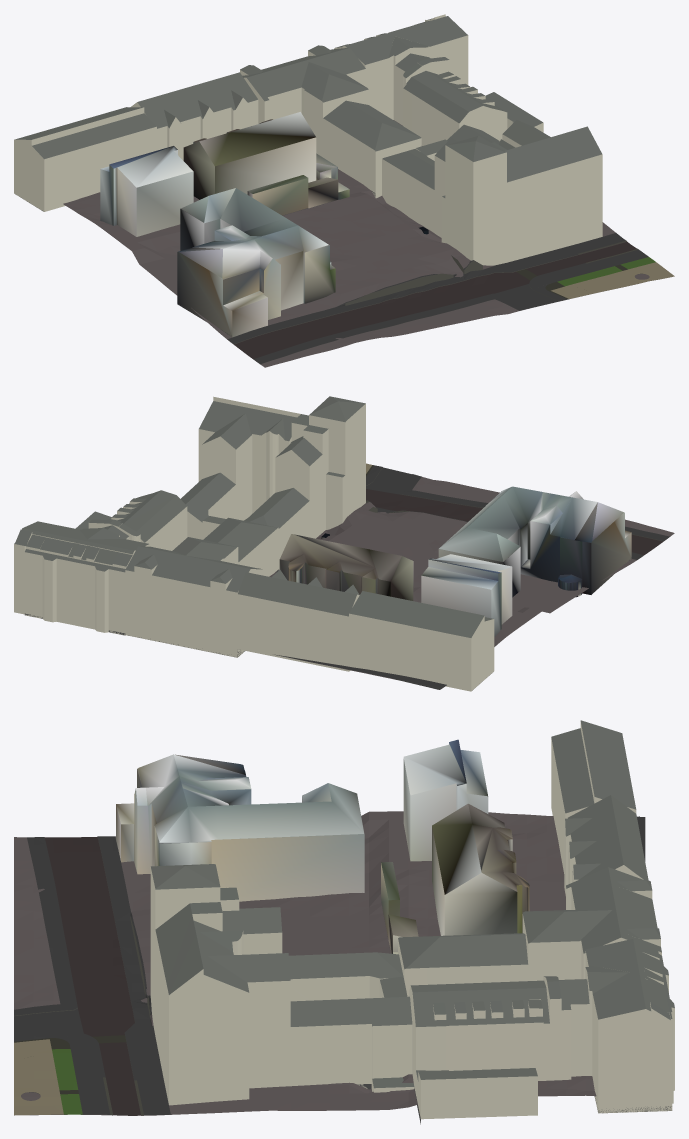
3 views of the same model, one above another, from view 1: azimuth 30°, elevation 25°; view 2: azimuth 150°, elevation 25°; view 3: azimuth 270°, elevation 25° (orthographic). The views are drawn at different scales.
Visible parts, largest first — view 1: c_m04_p09; view 2: c_m04_p09; view 3: c_m04_p09.
Part boxes in pixels (left/top/right/bottom): c_m04_p09: left=14, top=14, right=674, bottom=367; c_m04_p09: left=14, top=396, right=674, bottom=691; c_m04_p09: left=14, top=720, right=674, bottom=1124.
Size of the model in its own units: 142 by 37.54 by 134.
